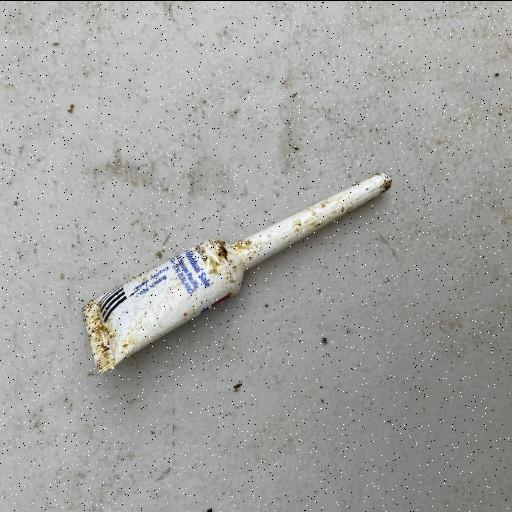Plastic: (79, 169, 395, 375)
